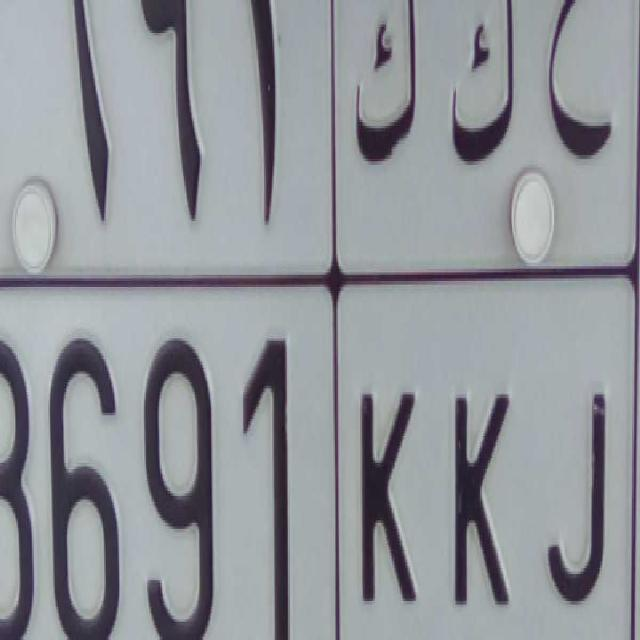license_plate: (0, 279, 638, 640)
